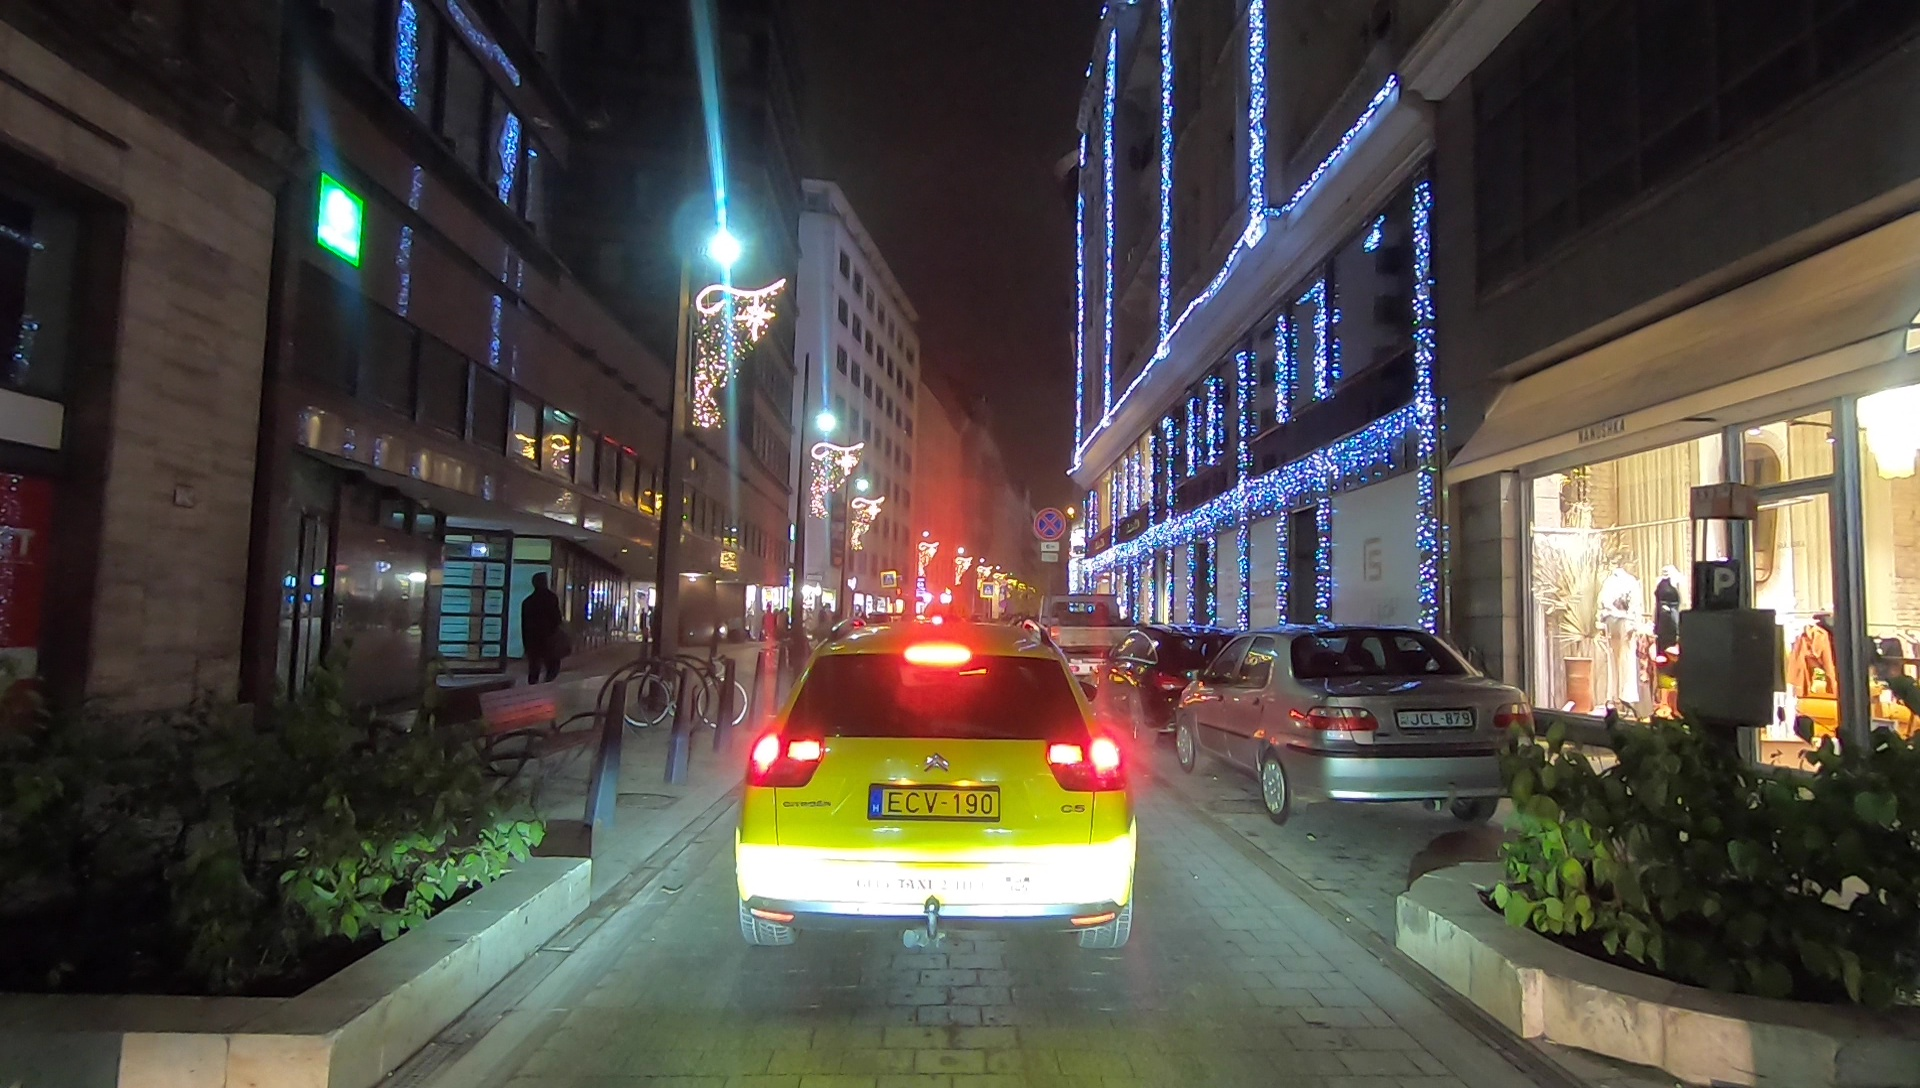person: (519, 573, 571, 708)
